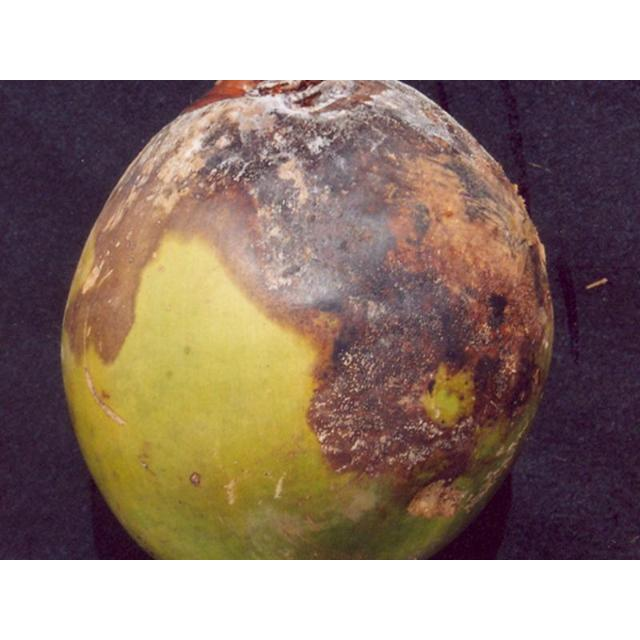damaged: (58, 80, 555, 559)
